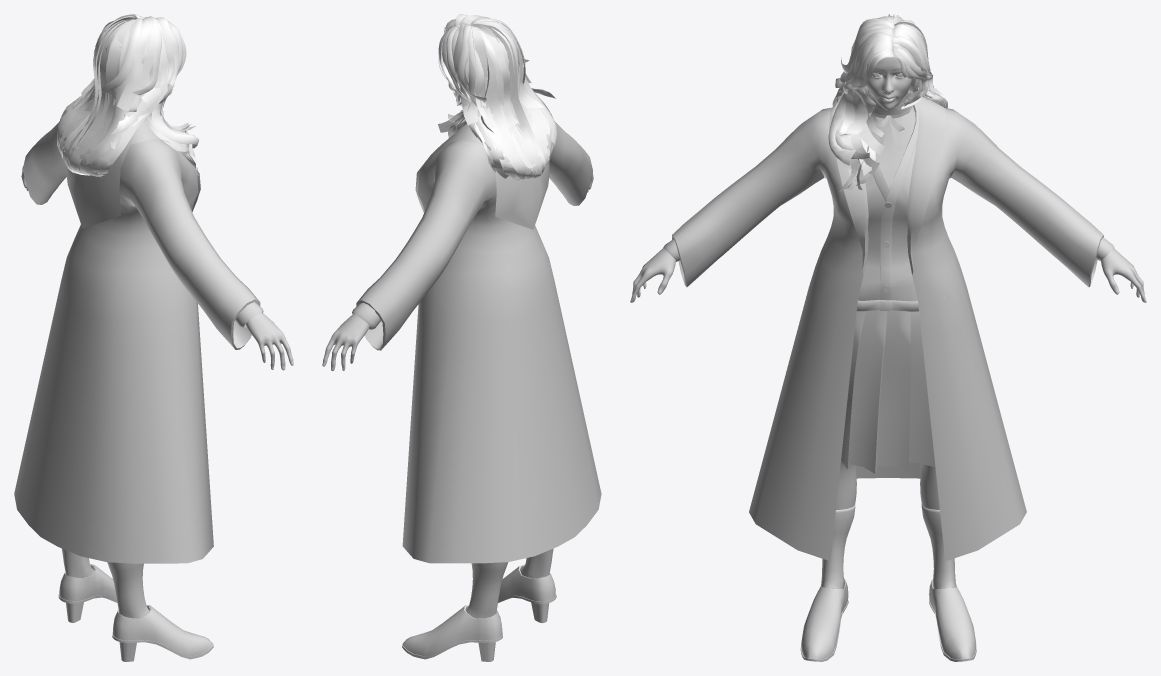
File: uploads_files_5657419_Female_Human.glb
3 renders of one model, left to right at view 1: azimuth 30°, elevation 25°; view 2: azimuth 150°, elevation 25°; view 3: azimuth 270°, elevation 25°, orthographic. The views are drawn at different scales.
Parts seen in each view (by area): view 1: Outfit, Hair, Shoes, Stocking, Female_Human; view 2: Outfit, Hair, Shoes, Stocking, Female_Human; view 3: Outfit, Hair, Female_Human, Shoes, Stocking.
Part boxes in pixels (bbox=[...]): Outfit: bbox=[14, 118, 263, 563]; Hair: bbox=[57, 14, 201, 177]; Shoes: bbox=[58, 564, 213, 661]; Stocking: bbox=[61, 548, 149, 618]; Female_Human: bbox=[21, 166, 293, 370]; Outfit: bbox=[352, 115, 601, 563]; Hair: bbox=[438, 14, 556, 180]; Shoes: bbox=[402, 564, 556, 661]; Stocking: bbox=[466, 548, 553, 618]; Female_Human: bbox=[322, 77, 593, 370]; Outfit: bbox=[663, 92, 1114, 561]; Hair: bbox=[828, 14, 947, 191]; Female_Human: bbox=[630, 35, 1146, 509]; Shoes: bbox=[800, 578, 976, 661]; Stocking: bbox=[821, 504, 955, 588].
Size of the model in its own units: 0.3845 by 1.58 by 1.18.
2 materials, 1 textured.
